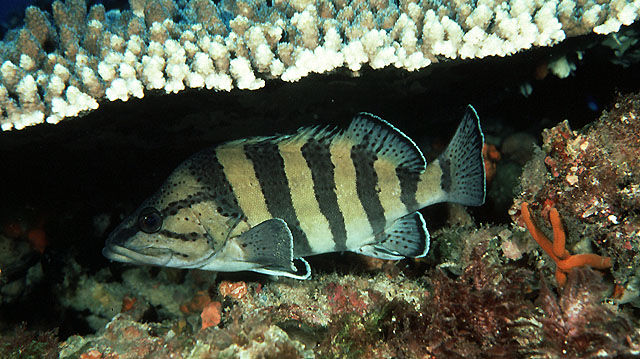fish: (104, 104, 488, 282)
